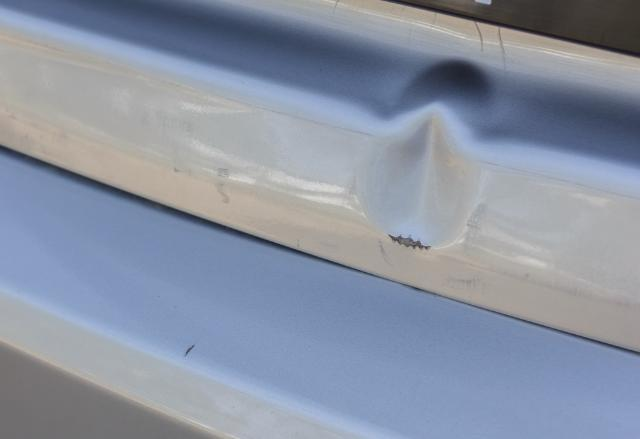dent: (366, 59, 504, 253)
